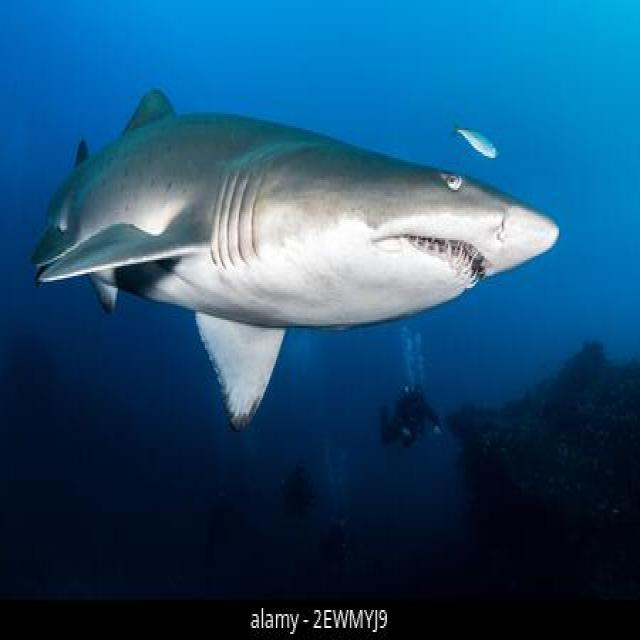Shark: (17, 62, 563, 434)
